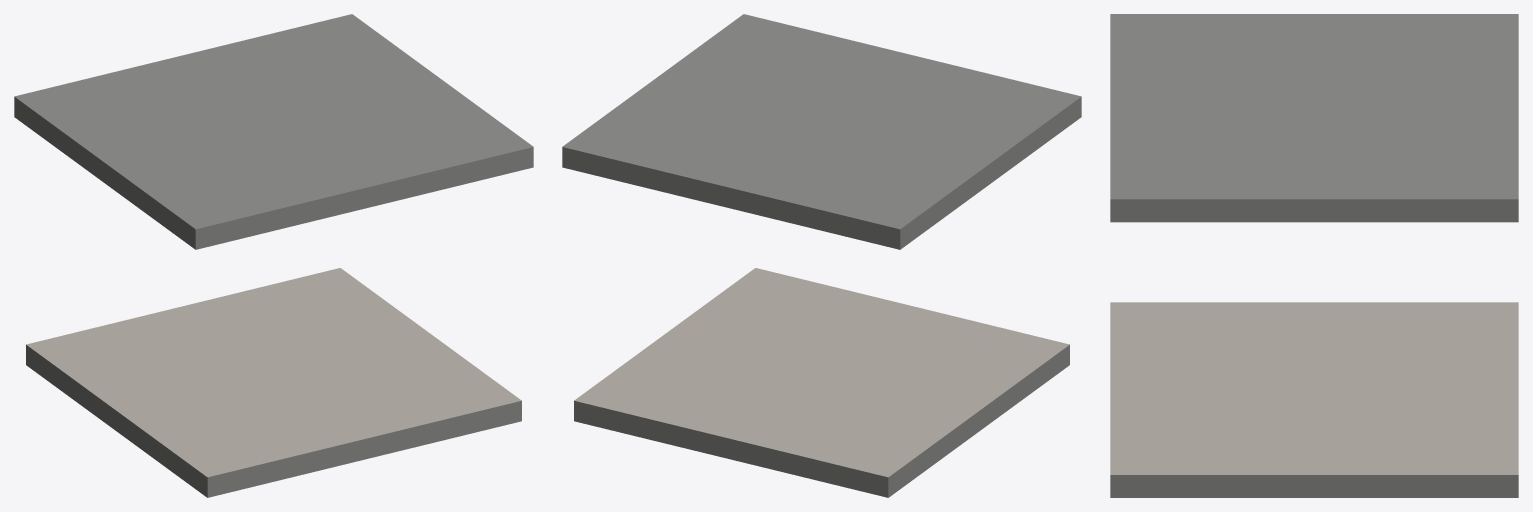
Rendered from gteki_passage_cross_w4.glb.
3 renders of one model, left to right at view 1: azimuth 30°, elevation 25°; view 2: azimuth 150°, elevation 25°; view 3: azimuth 270°, elevation 25°, orthographic. The views are drawn at different scales.
Parts seen in each view (by area): view 1: VIS_body; view 2: VIS_body; view 3: VIS_body.
Part boxes in pixels (x1,y1,x2,y2): VIS_body: (14,14,533,497); VIS_body: (562,14,1081,497); VIS_body: (1110,14,1518,497).
Size of what is drawn, in the model's own units: 4.3 by 3.3 by 4.
Materials: 1 (1 with a texture image).
